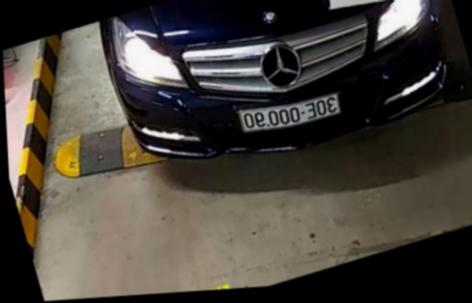License_Plate: (235, 84, 347, 149)
